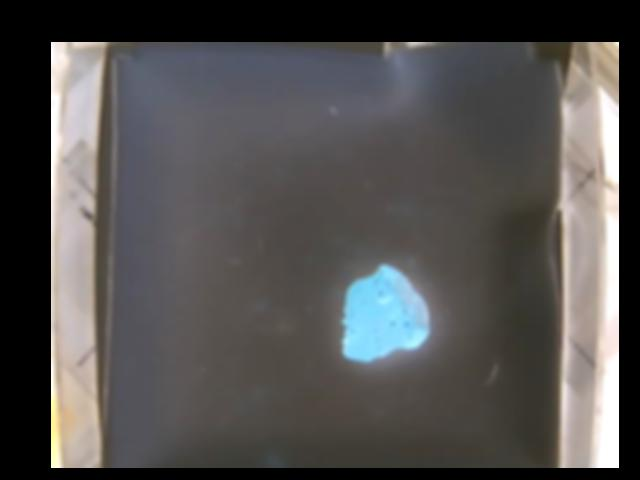Brisk: (340, 262, 430, 360)
